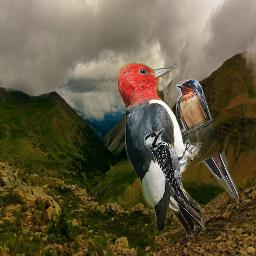Swallow: (176, 79, 239, 199)
Woodpecker: (118, 61, 207, 237), (143, 128, 192, 215)
